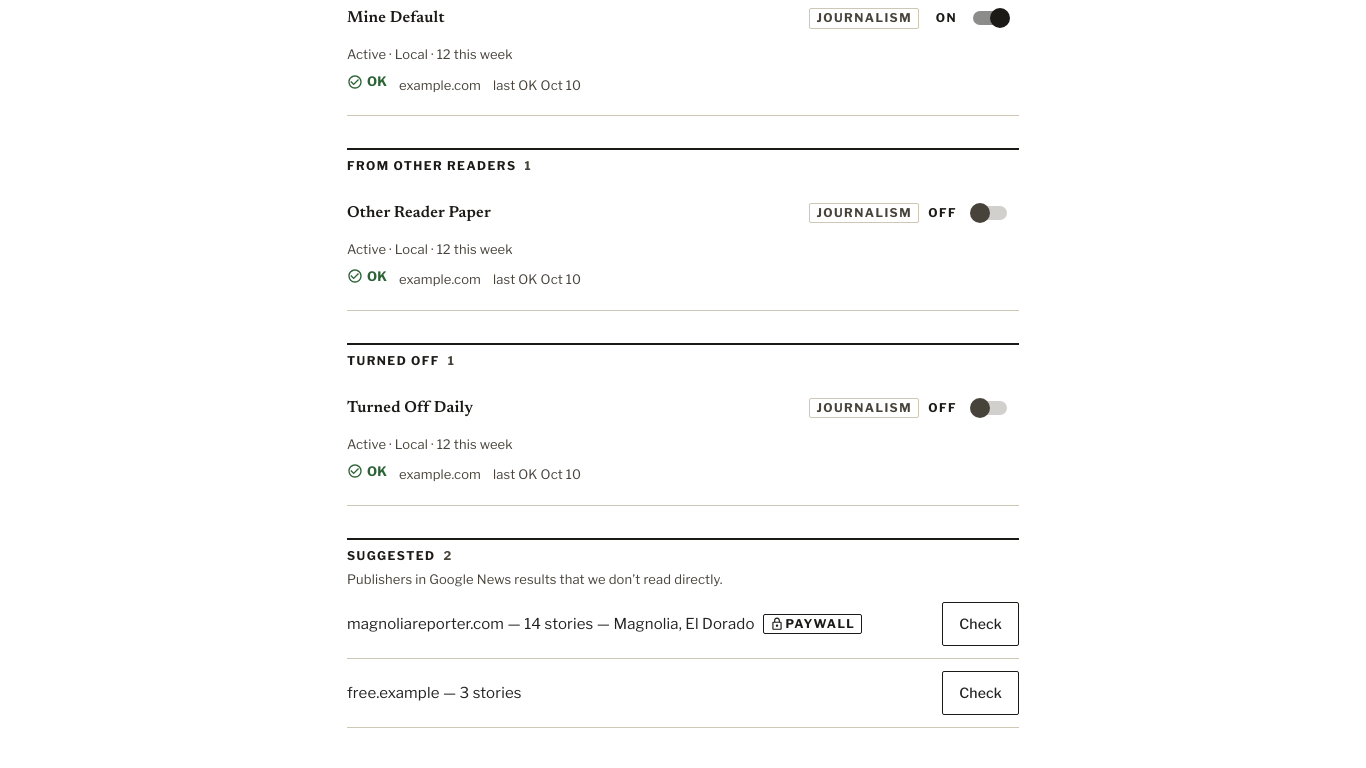
Test: Sources sections, switches and suggestions › lists suggestions as "domain — N stories — places" with a paywall badge, and Check opens the sheet on https://<domain>
(page scrolled)
Expected: the list item with test id "suggestion" shows "magnoliareporter.com — 14 stories — Magnolia, El Dorado", [347, 615, 755, 633]
Expected: the element with test id "paywall-badge" is shown, [763, 614, 862, 634]
Click the button with aria-label "Check magnoliareporter.com".
click(981, 624)  # box [942, 602, 1019, 646]
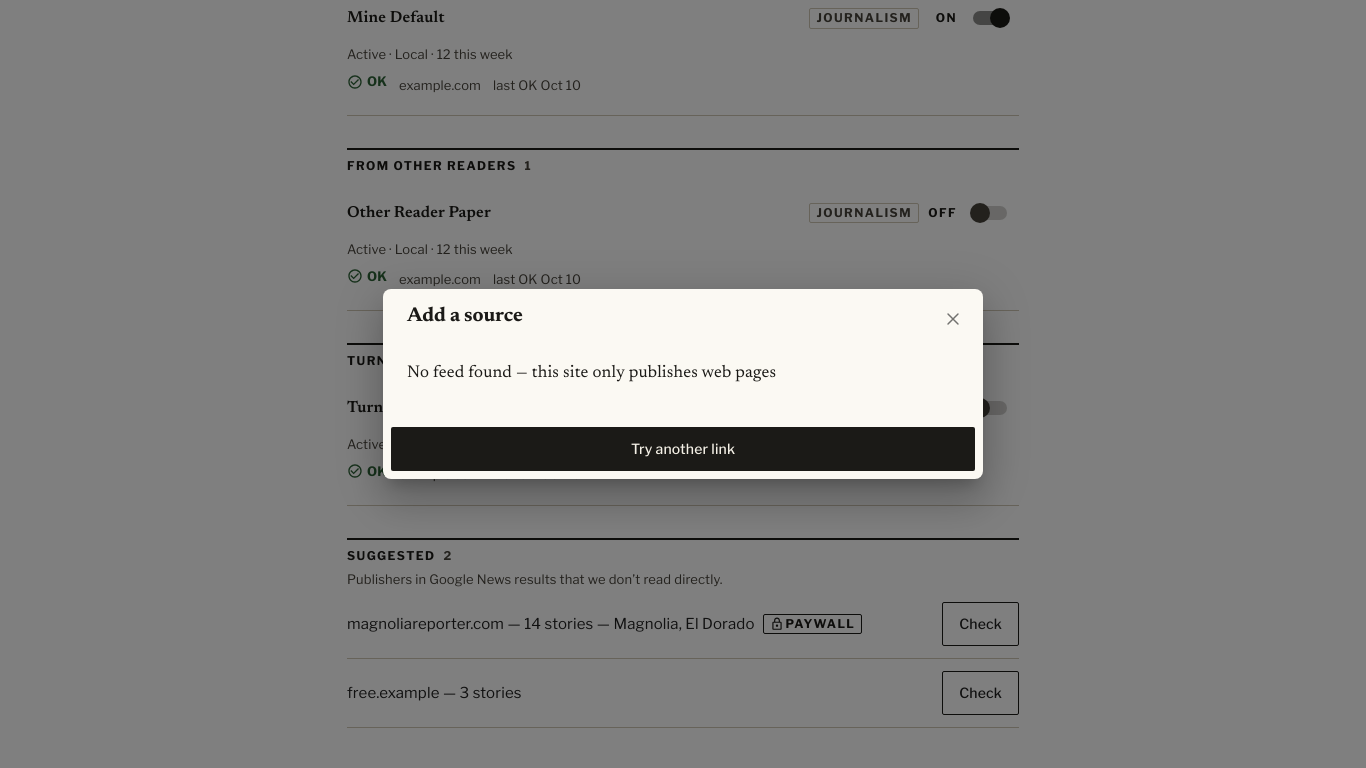
Result: the dialog "Add a source" is shown at [383, 290, 983, 479]
Result: the message "No feed found — this site only publishes web pages" is shown at [407, 365, 776, 382]
